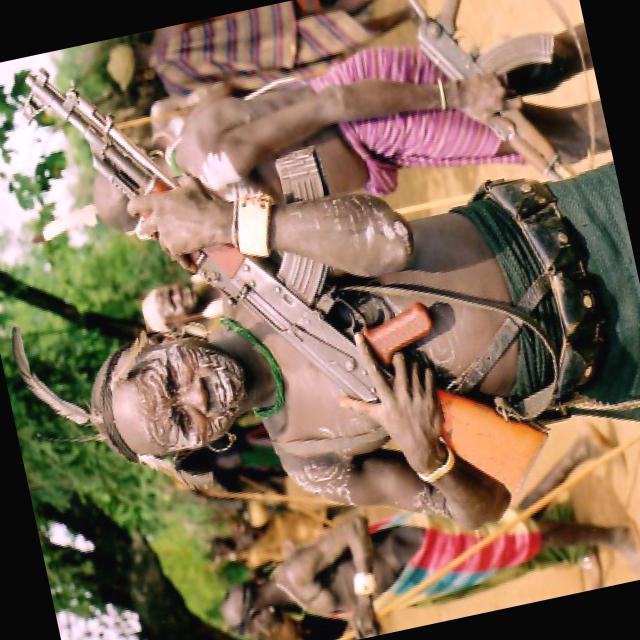long weapon: (11, 0, 569, 602)
